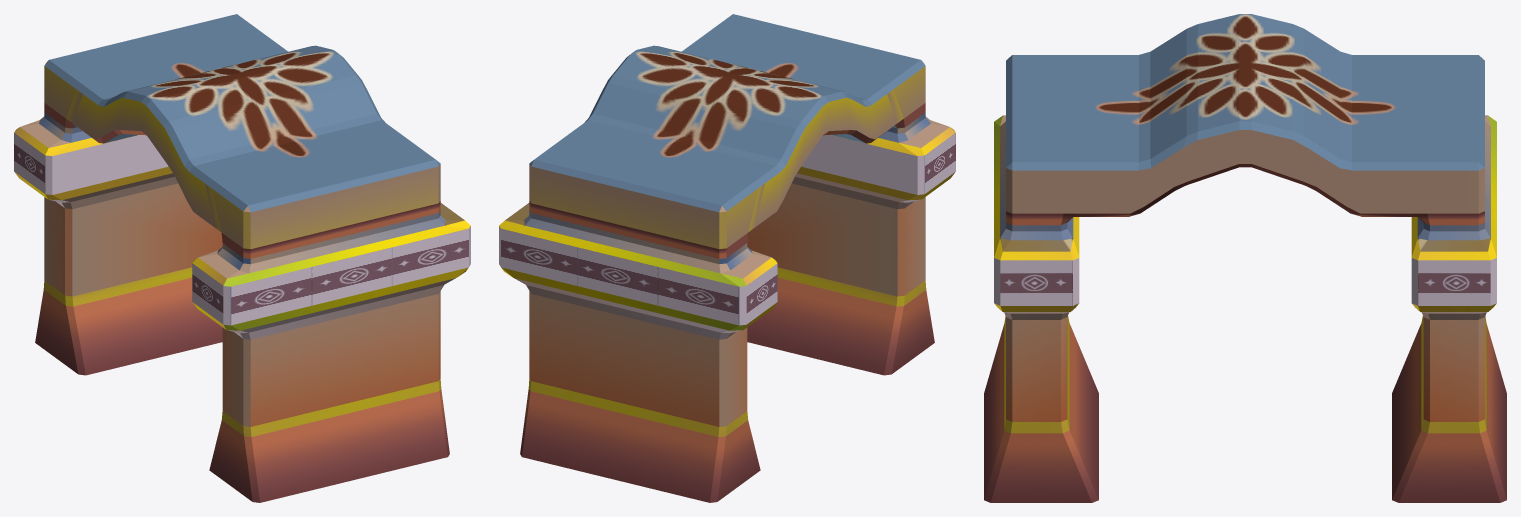
The model's file is WallsTrack1.fbx.
The picture shows the model from 3 angles, left to right: view 1: azimuth 30°, elevation 25°; view 2: azimuth 150°, elevation 25°; view 3: azimuth 270°, elevation 25°; orthographic projection. The views are drawn at different scales.
Parts seen in each view (by area): view 1: StructWall; view 2: StructWall; view 3: StructWall.
Part boxes in pixels (box(x1,y1,x2,y2)): StructWall: box(14, 14, 470, 502); StructWall: box(499, 14, 955, 502); StructWall: box(984, 14, 1506, 502).
Size of the model in its own units: 806 by 1007 by 1259.
